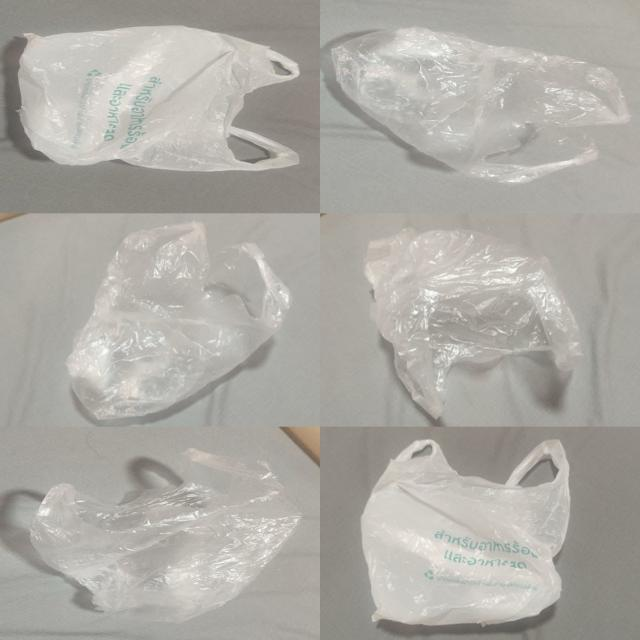Single-layer Plastic: (30, 449, 300, 622), (332, 28, 629, 182), (66, 222, 291, 420), (364, 229, 580, 419), (18, 26, 299, 171), (362, 439, 570, 624)
